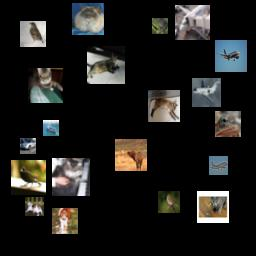airplane: (175, 5, 210, 40), (215, 40, 247, 72), (192, 78, 221, 107), (209, 156, 228, 175)
automobile: (20, 138, 36, 154)
bird: (11, 160, 46, 195), (20, 21, 46, 47), (158, 191, 180, 213)
cat: (87, 46, 125, 84), (52, 158, 90, 196), (28, 68, 63, 103), (148, 90, 180, 122), (197, 191, 229, 223), (72, 3, 104, 35), (52, 208, 78, 234), (25, 197, 44, 216)
deer: (115, 139, 147, 171)
frog: (215, 111, 241, 137), (152, 18, 168, 34)
ship: (43, 120, 59, 136)
